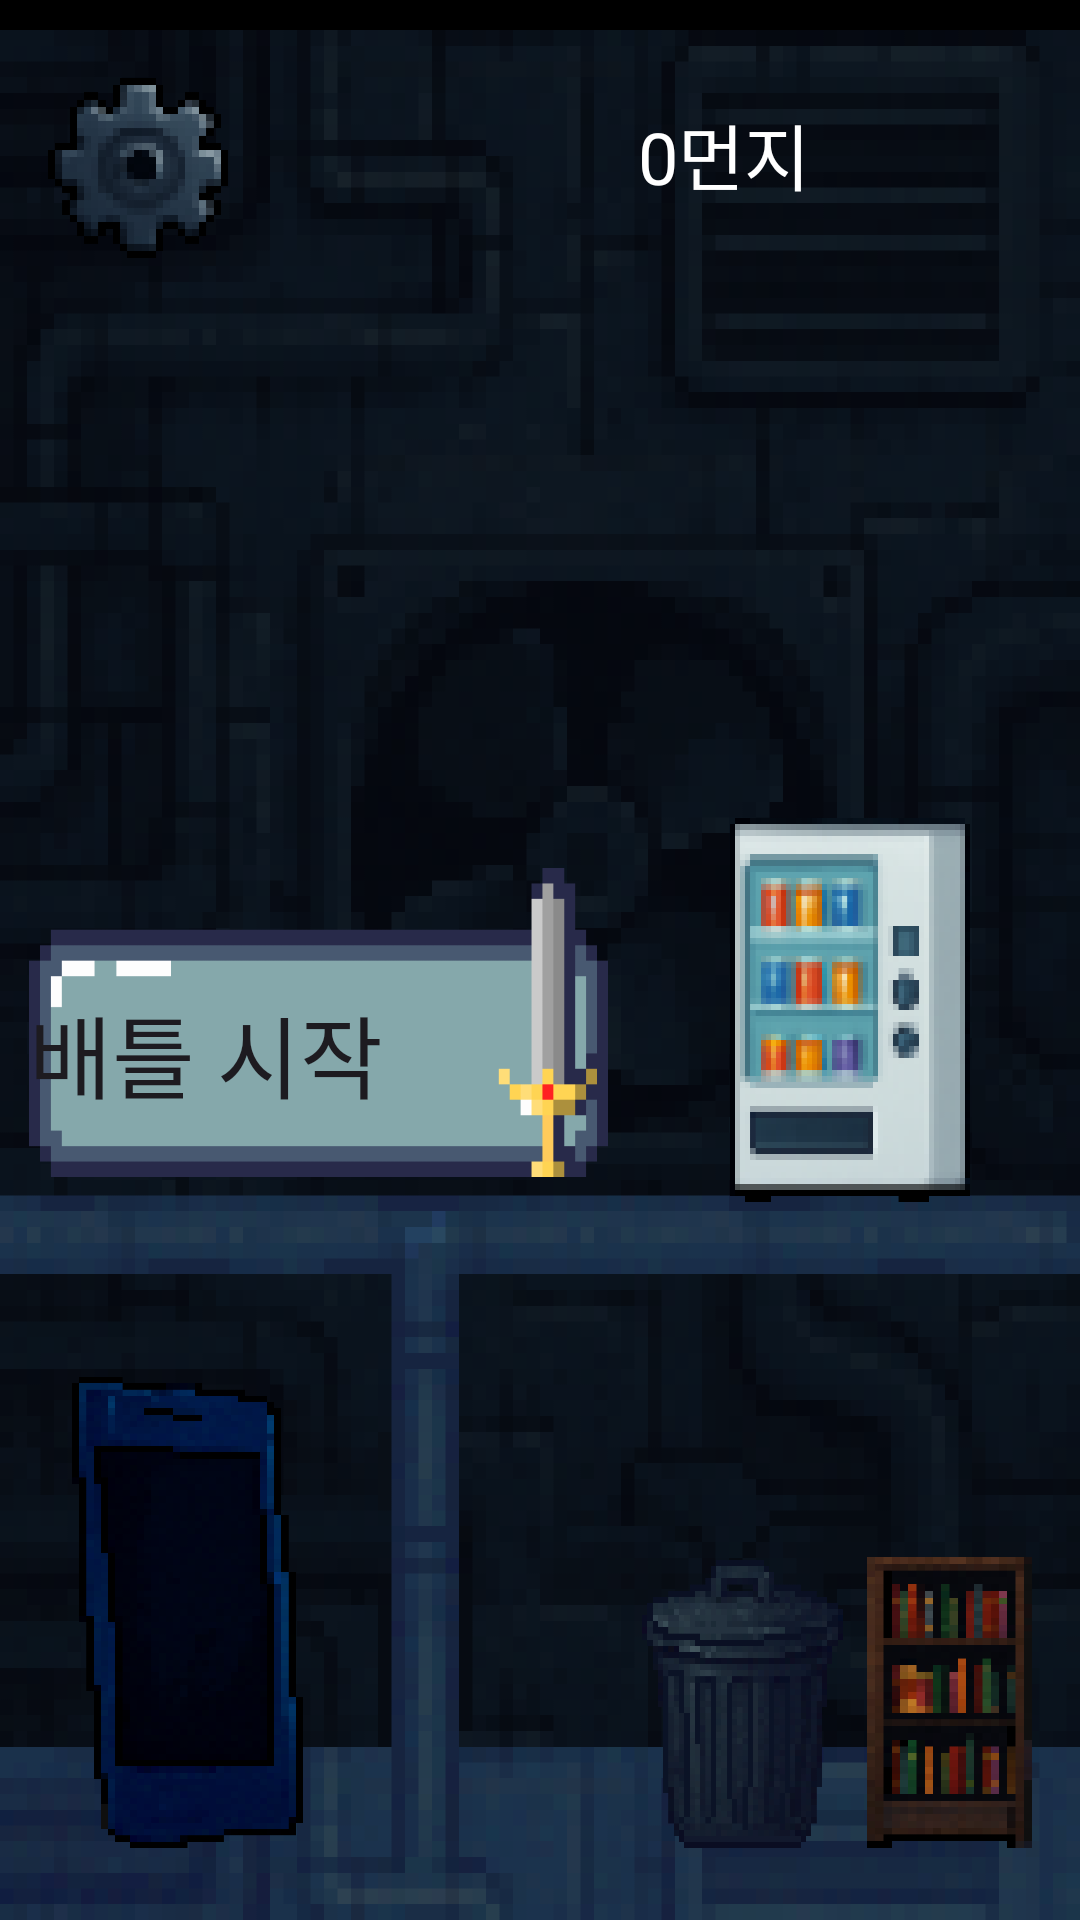

Icon click points for this 1080px x 1920px phone screenshot, format (x,y):
gaer: (141,164)
library: (949,1702)
trashcan: (742,1704)
